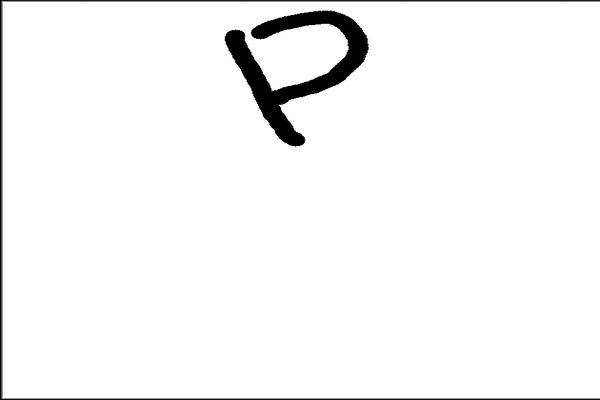P: (219, 8, 382, 152)
